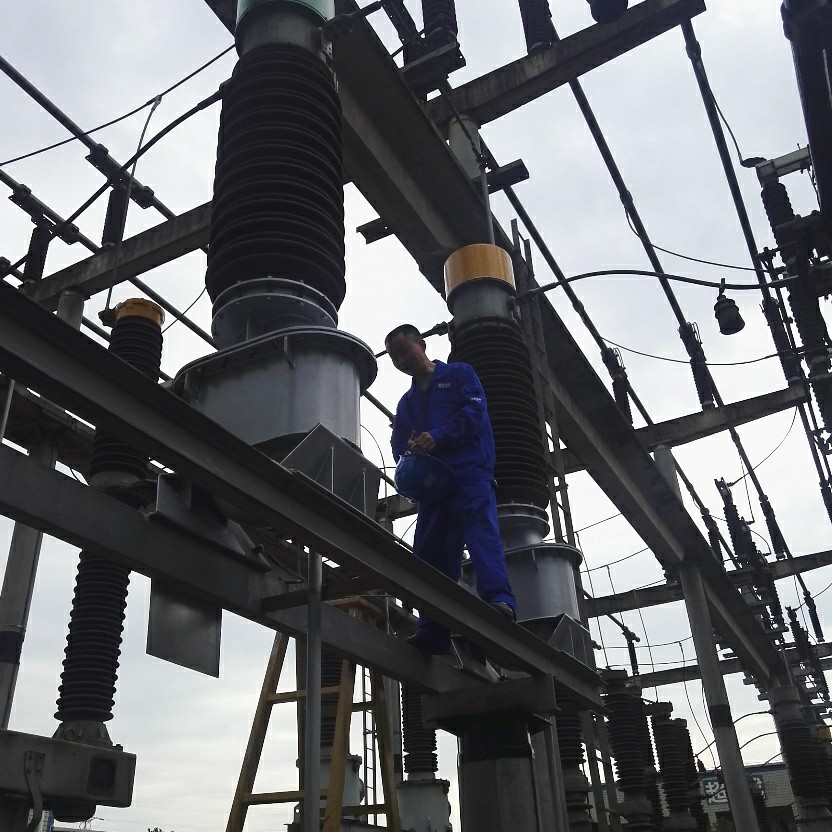no-hat: (383, 317, 434, 383)
